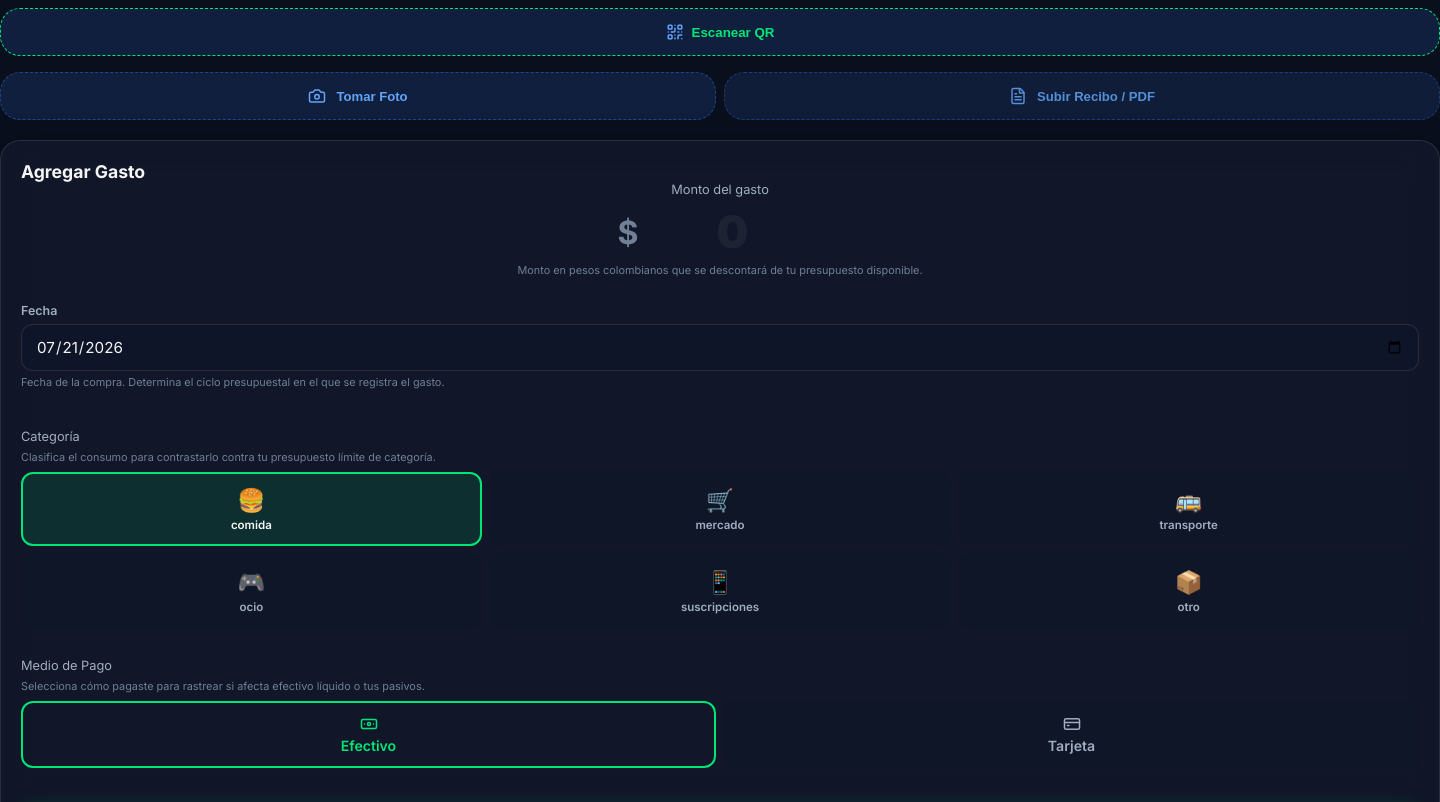
<ExpenseForm /> › shows bank entity selector when Tarjeta is selected
Click the button "Tarjeta" at [1072, 734], box [724,701,1419,768]
(page scrolled)
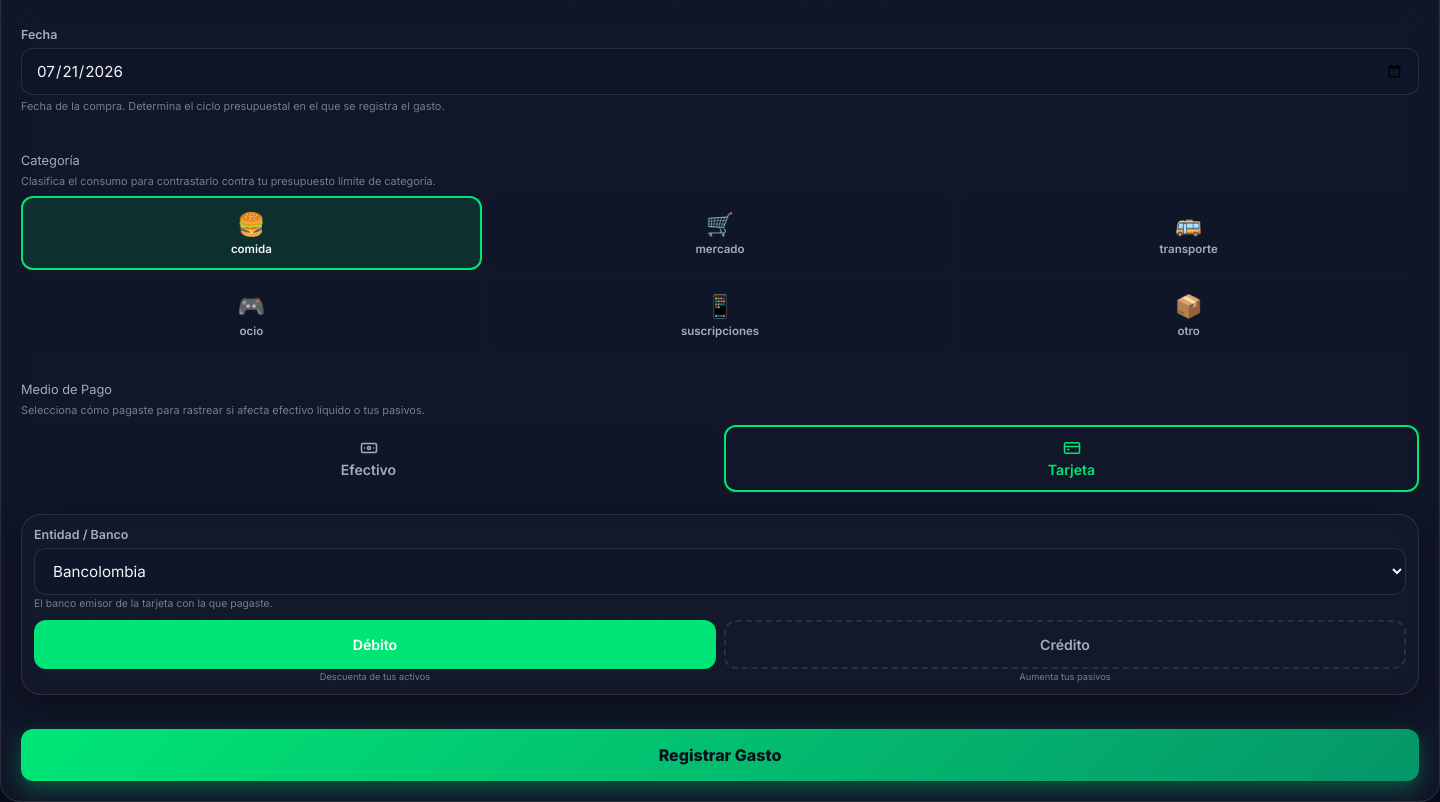
Expected: the text "Entidad / Banco" is shown, [34,527,128,542]
